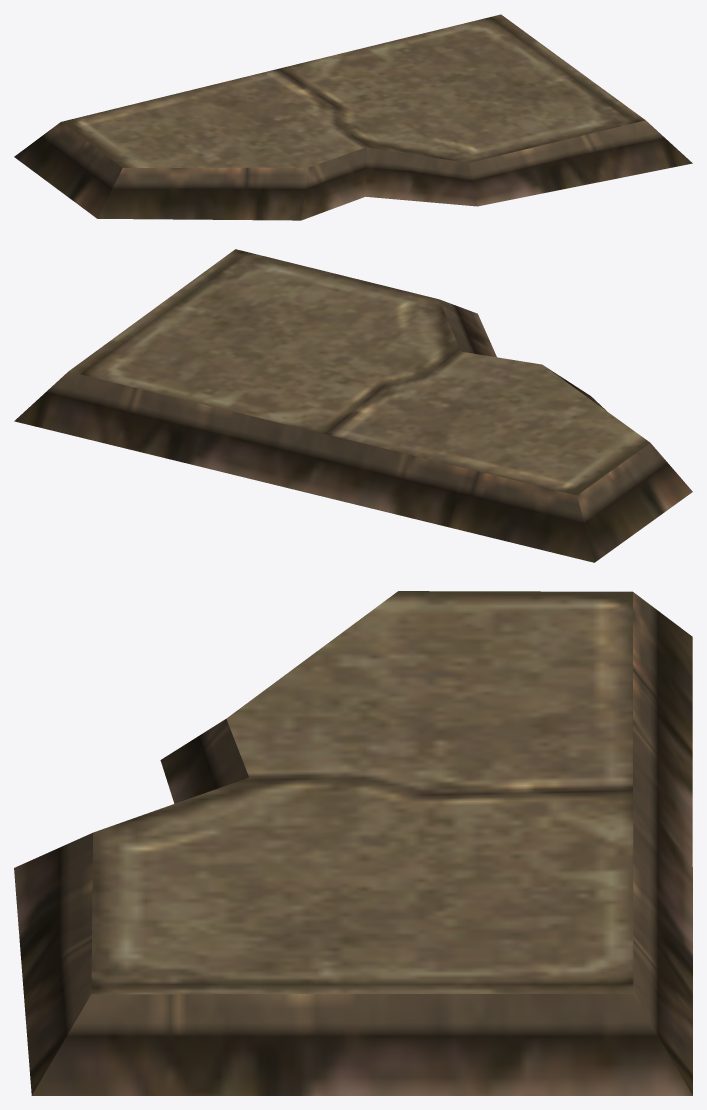
The model's file is A_dizhuan_001.fbx.
3 views of the same model, one above another, from view 1: azimuth 30°, elevation 25°; view 2: azimuth 150°, elevation 25°; view 3: azimuth 270°, elevation 25° (orthographic). The views are drawn at different scales.
Visible parts, largest first — view 1: A_dizhuan_001; view 2: A_dizhuan_001; view 3: A_dizhuan_001.
Part boxes in pixels (x1,y1,x2,y2): A_dizhuan_001: (14, 14, 692, 220); A_dizhuan_001: (14, 249, 692, 562); A_dizhuan_001: (14, 591, 692, 1095).
Bounding box in the file's own units: 59.19 × 4.39 × 36.92.
